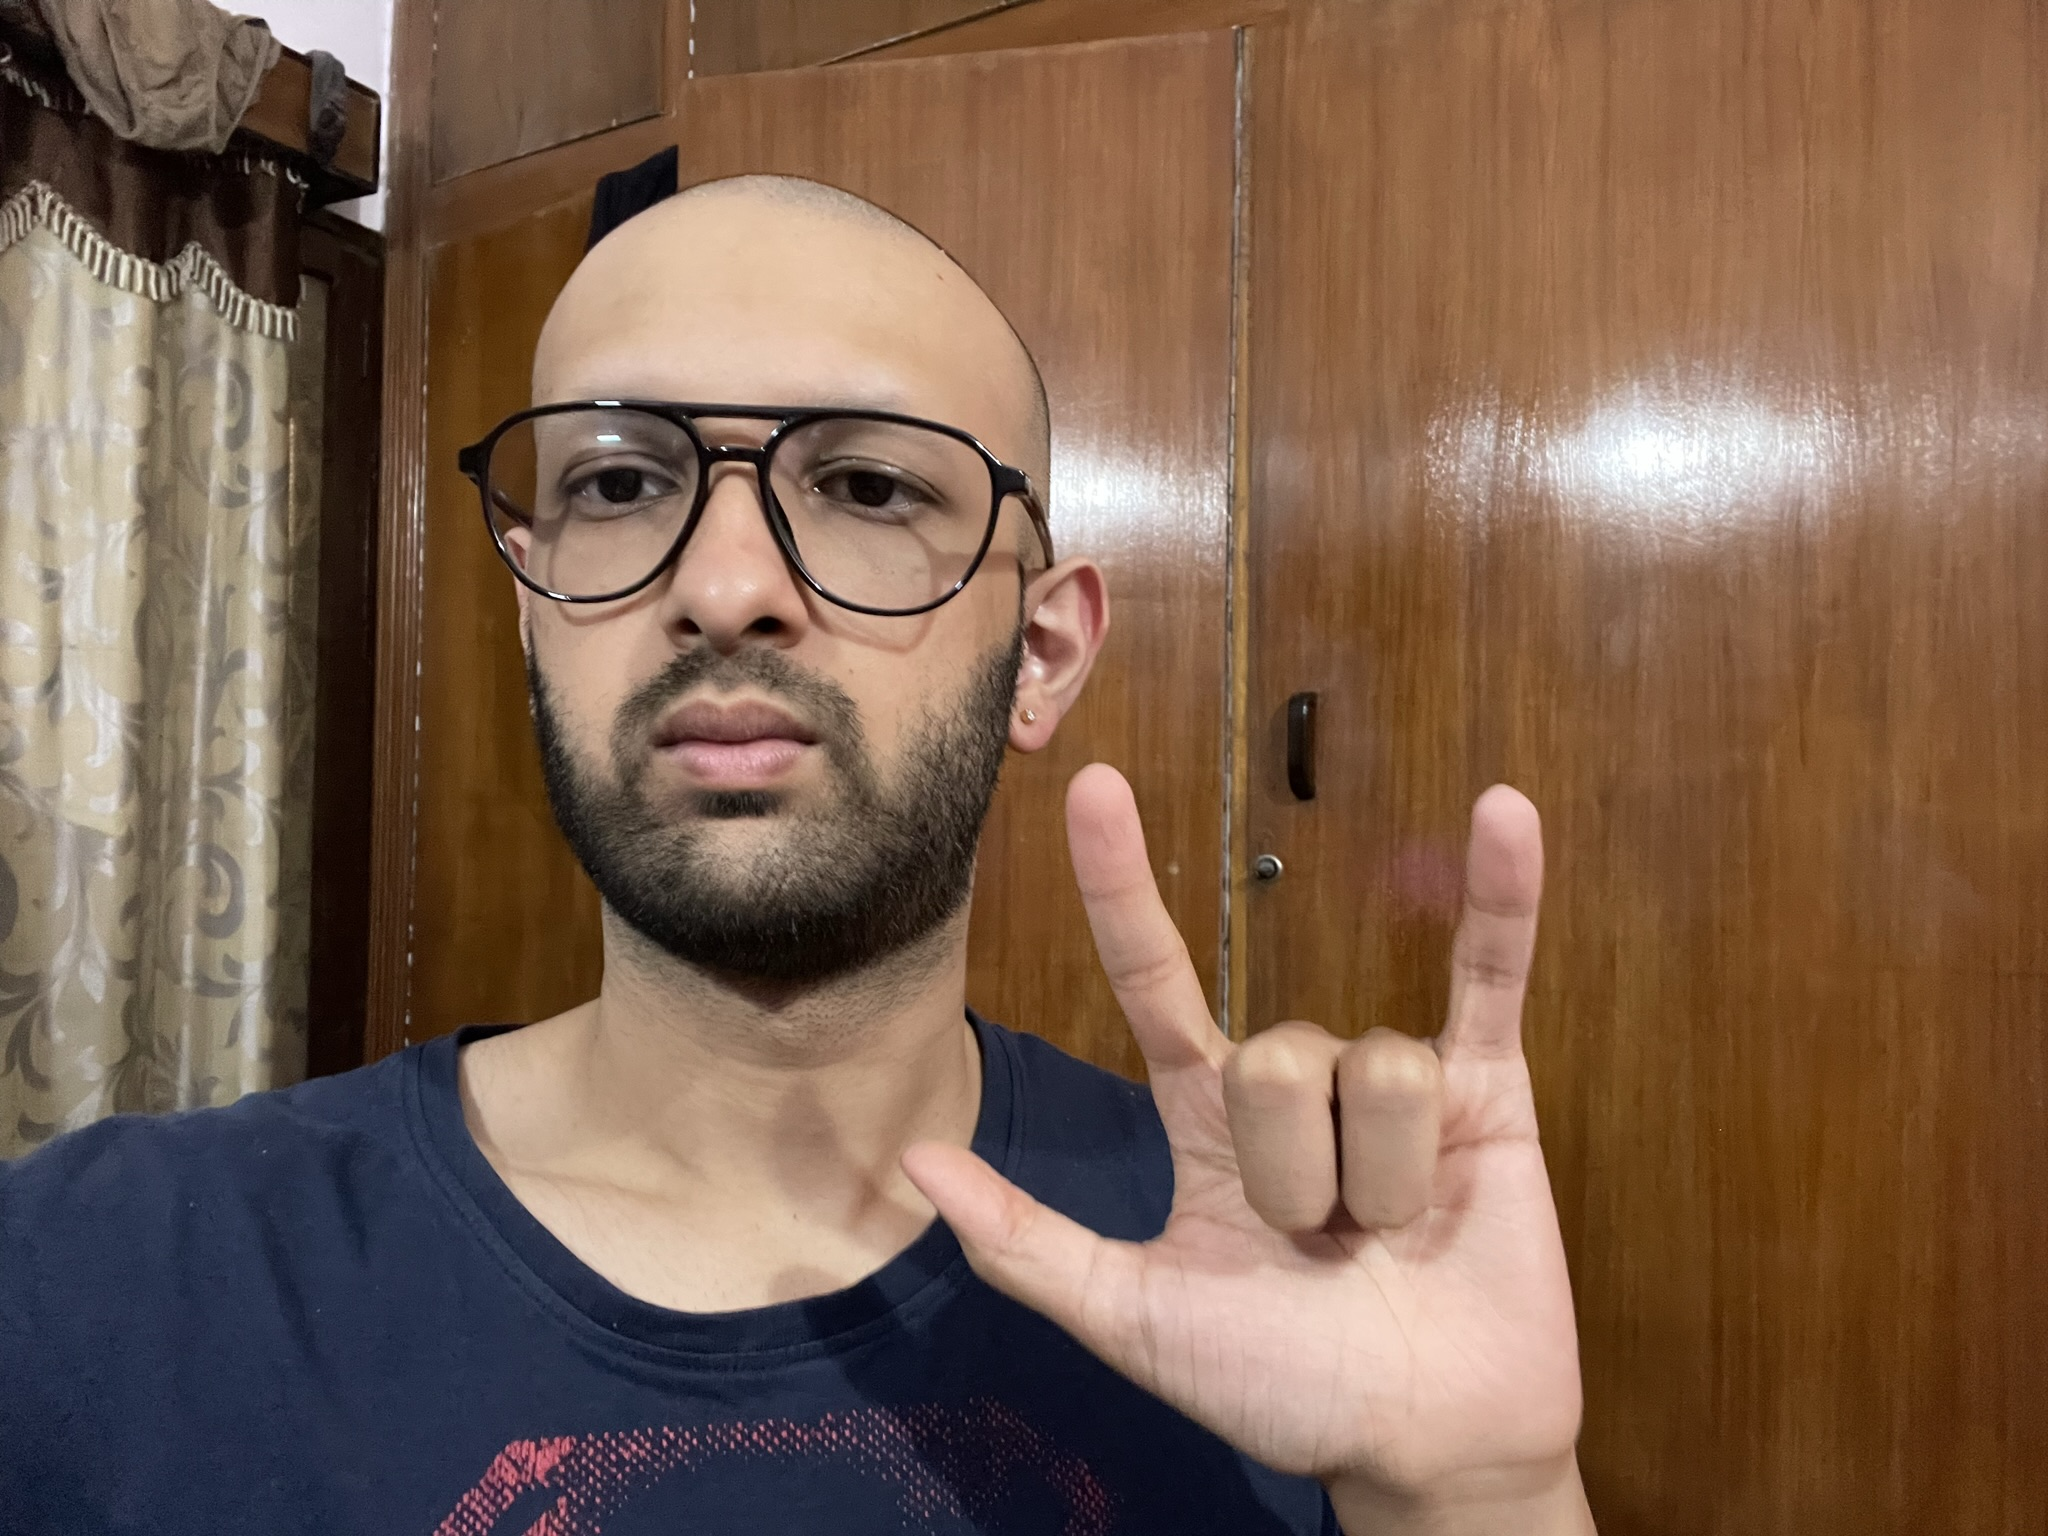I Love You: (901, 762, 1588, 1468)
